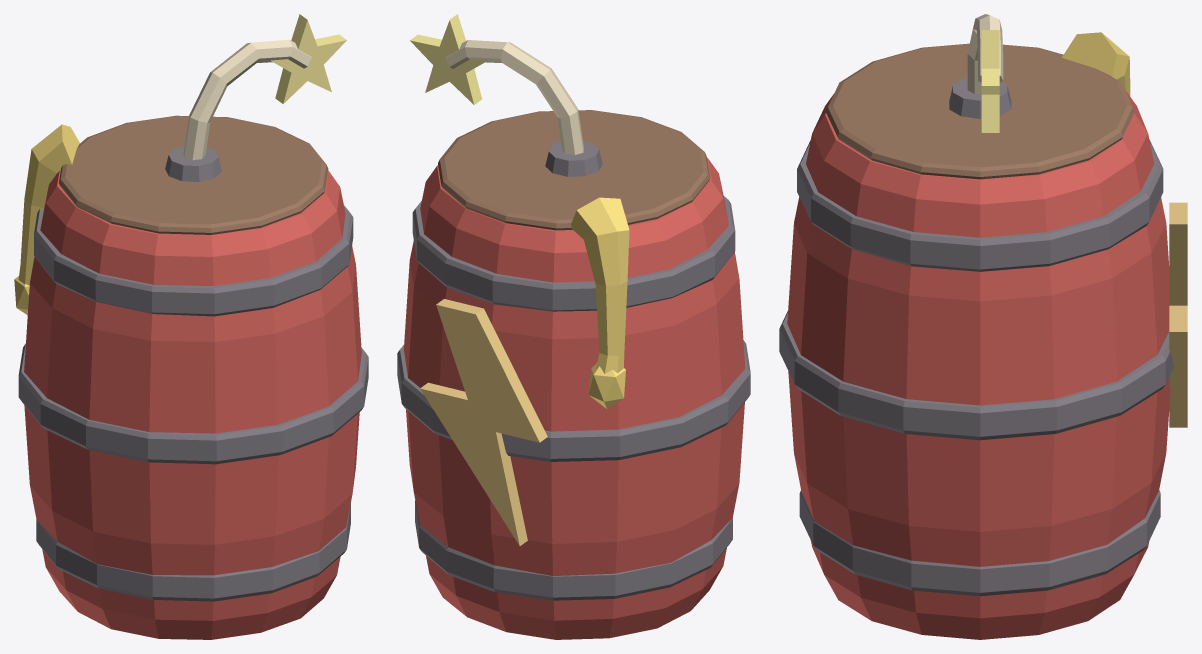
Rendered from Kit_Keg.fbx.
The picture shows the model from 3 angles, left to right: view 1: azimuth 30°, elevation 25°; view 2: azimuth 150°, elevation 25°; view 3: azimuth 270°, elevation 25°; orthographic projection. The views are drawn at different scales.
Parts seen in each view (by area): view 1: Kit_Keg; view 2: Kit_Keg; view 3: Kit_Keg.
Part boxes in pixels (box(x1,y1,x2,y2)): Kit_Keg: box(14, 14, 368, 639); Kit_Keg: box(397, 14, 750, 639); Kit_Keg: box(779, 14, 1187, 639).
Bounding box in the file's own units: 0.7769 × 1.29 × 0.7865.
